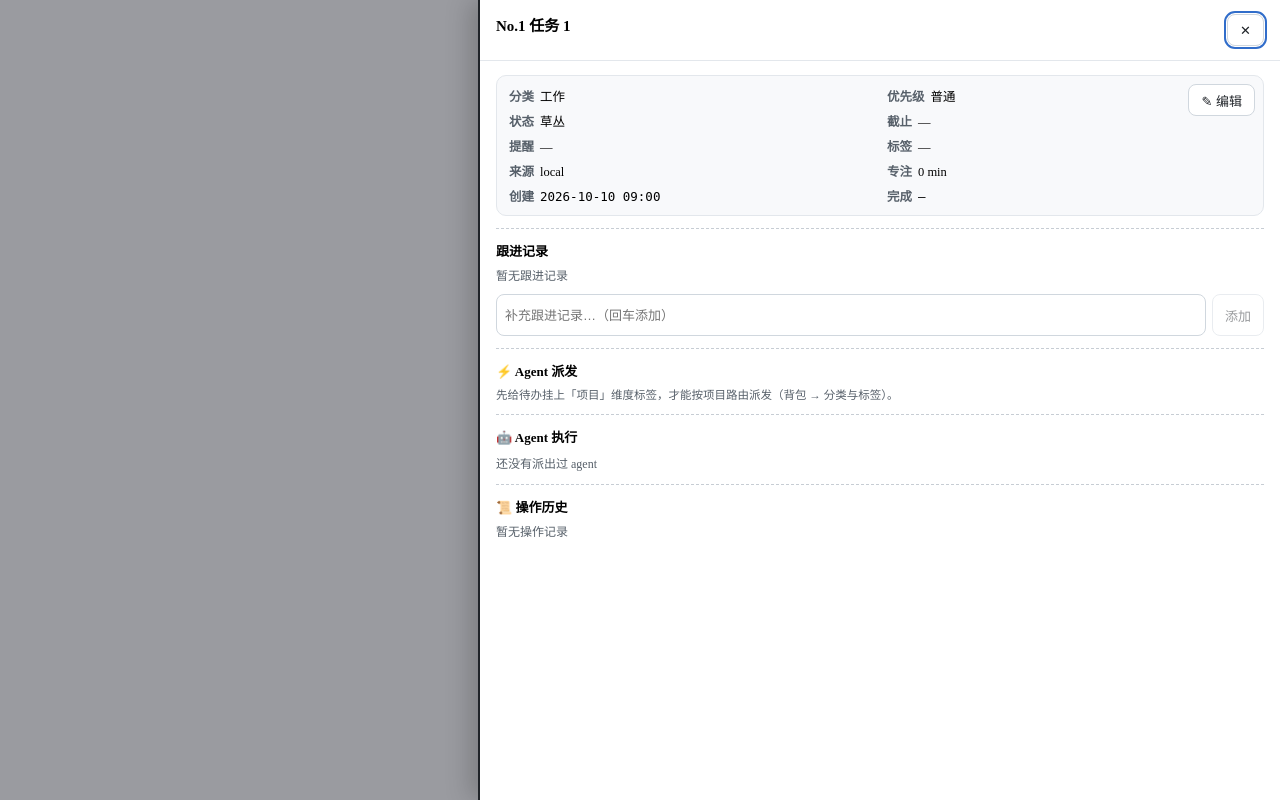
Test case: 跟进记录写路径（对照桌面跟进段） › 添加跟进 → taskNoteAdd → 重拉 taskDetail 回灌新内容
The width and height of the screenshot is (1280, 800).
Type "已联系对方" into the field with placeholder "补充跟进记录…（回车添加）" at (851, 315), box left=496, top=294, right=1206, bottom=336
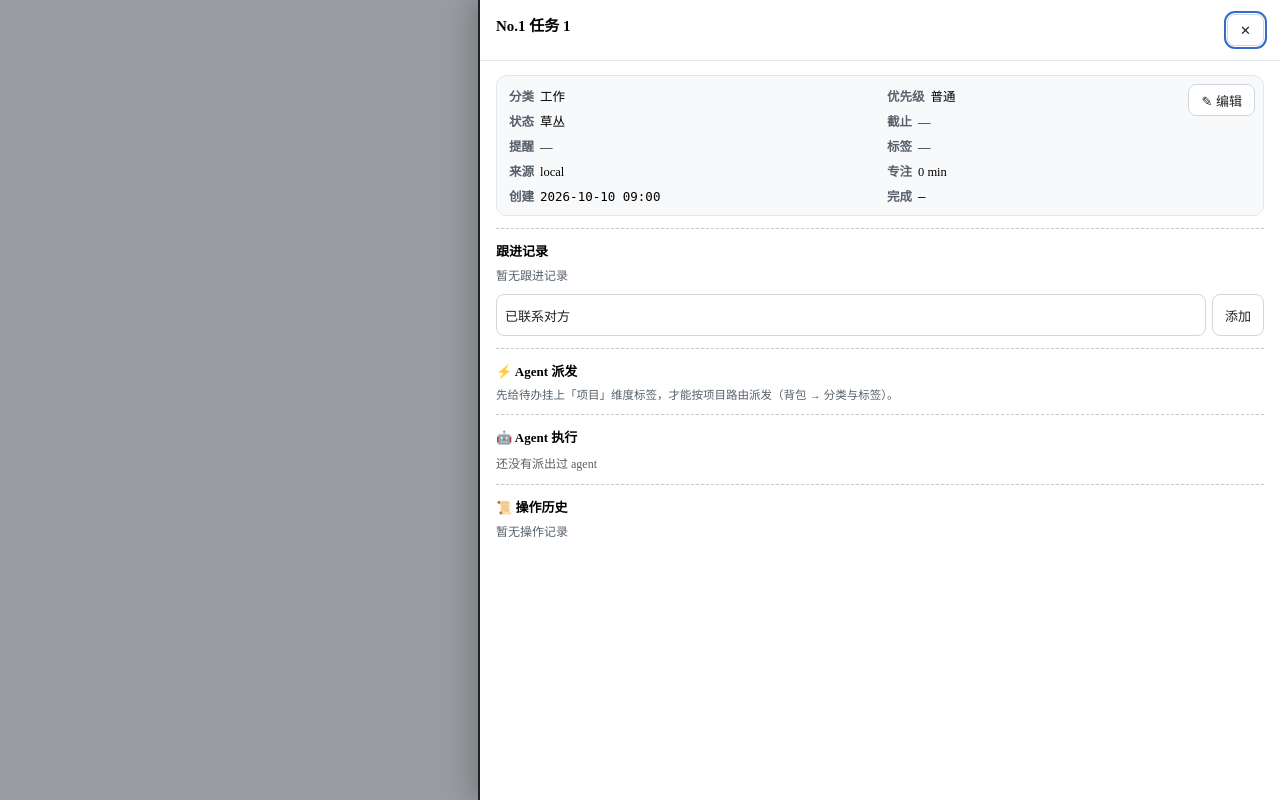
Click the button "添加" at (1238, 315), box left=1212, top=294, right=1264, bottom=336
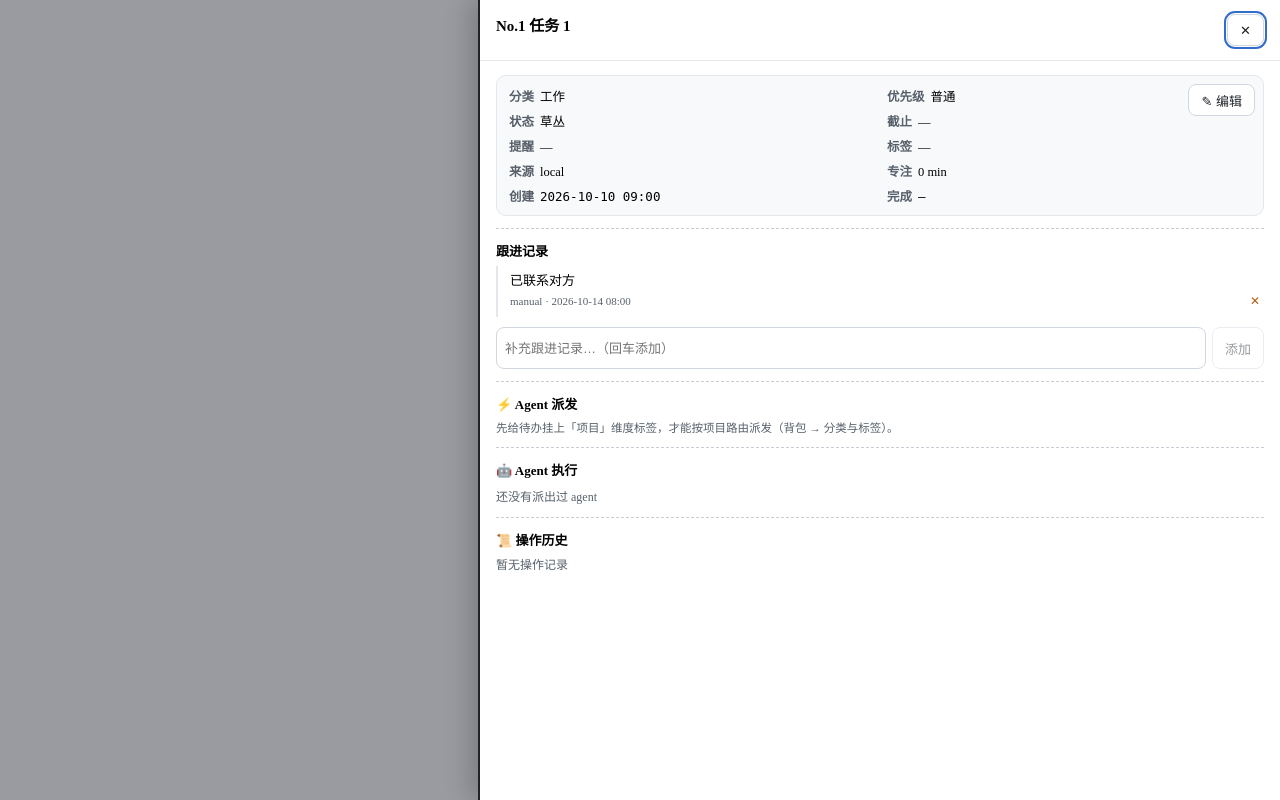
Now the text "已联系对方" is shown, box left=510, top=273, right=575, bottom=288
